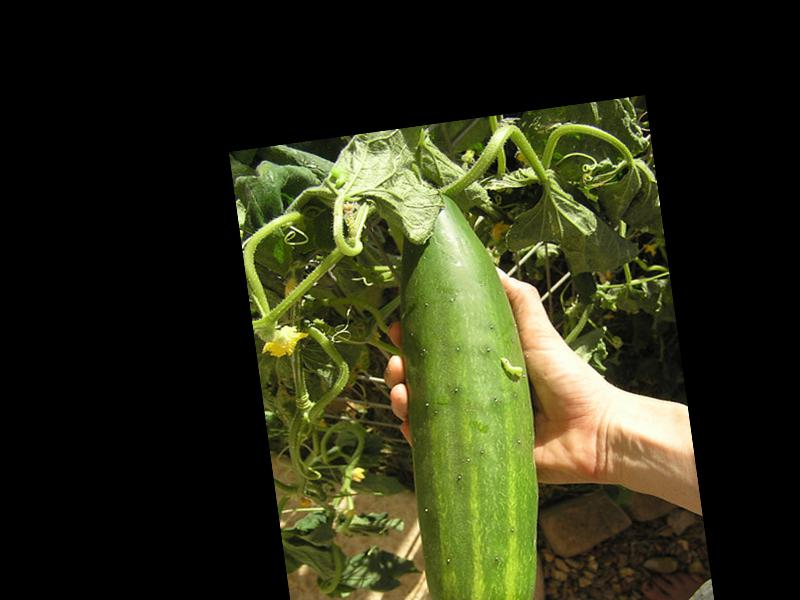Cucumber: (373, 180, 562, 600)
